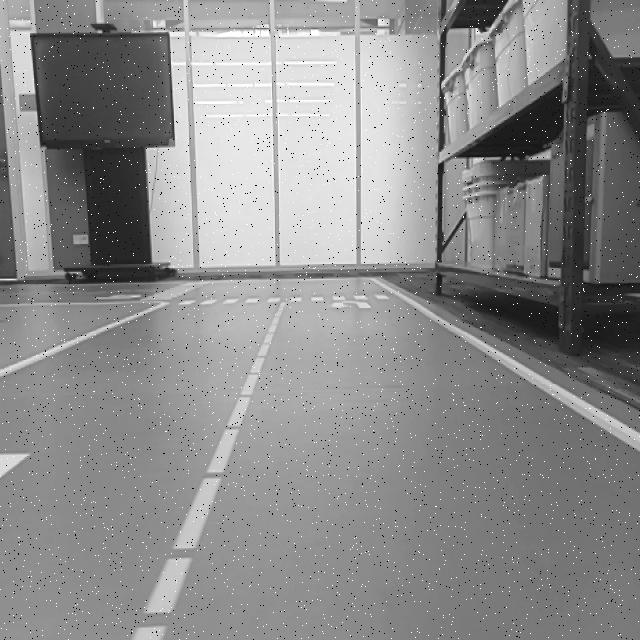left_lane: (134, 300, 286, 640)
right_lane: (367, 274, 640, 454), (0, 303, 168, 379)
